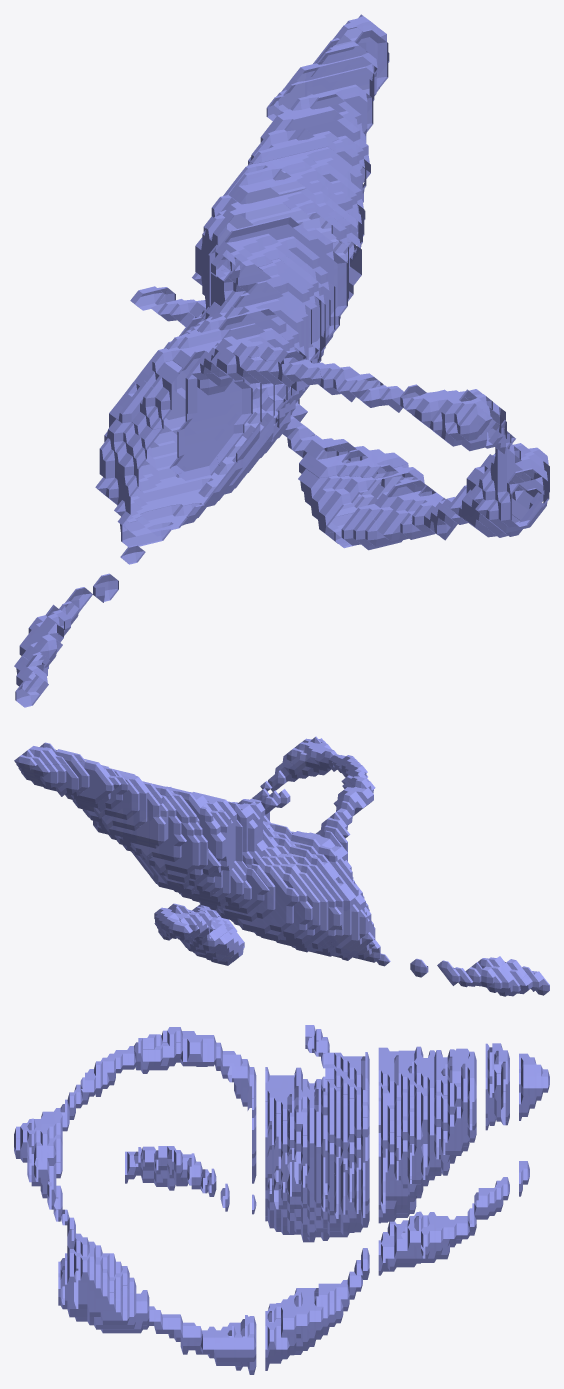
Rendered from SVV_IL1VR.gltf.
3 renders of one model, top to bottom at view 1: azimuth 30°, elevation 25°; view 2: azimuth 150°, elevation 25°; view 3: azimuth 270°, elevation 25°, orthographic. The views are drawn at different scales.
Parts seen in each view (by area): view 1: IL1VR; view 2: IL1VR; view 3: IL1VR.
Boxes of the visible parts, <box> form: IL1VR: <box>14,14,549,707</box>; IL1VR: <box>14,736,549,996</box>; IL1VR: <box>14,1025,549,1374</box>.
Size of the model in its own units: 36367 by 23558 by 30859.
